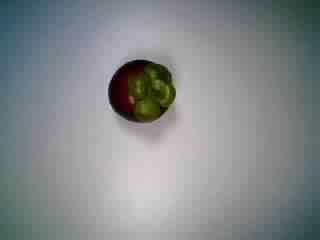mangosteen: (105, 54, 179, 126)
